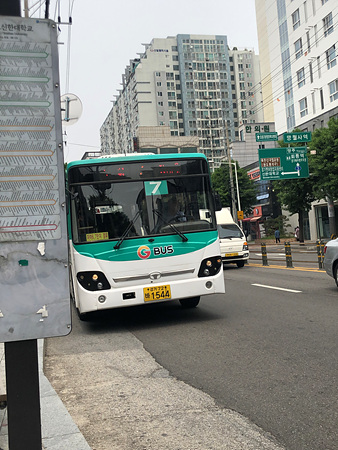bnum: (145, 180, 166, 196)
